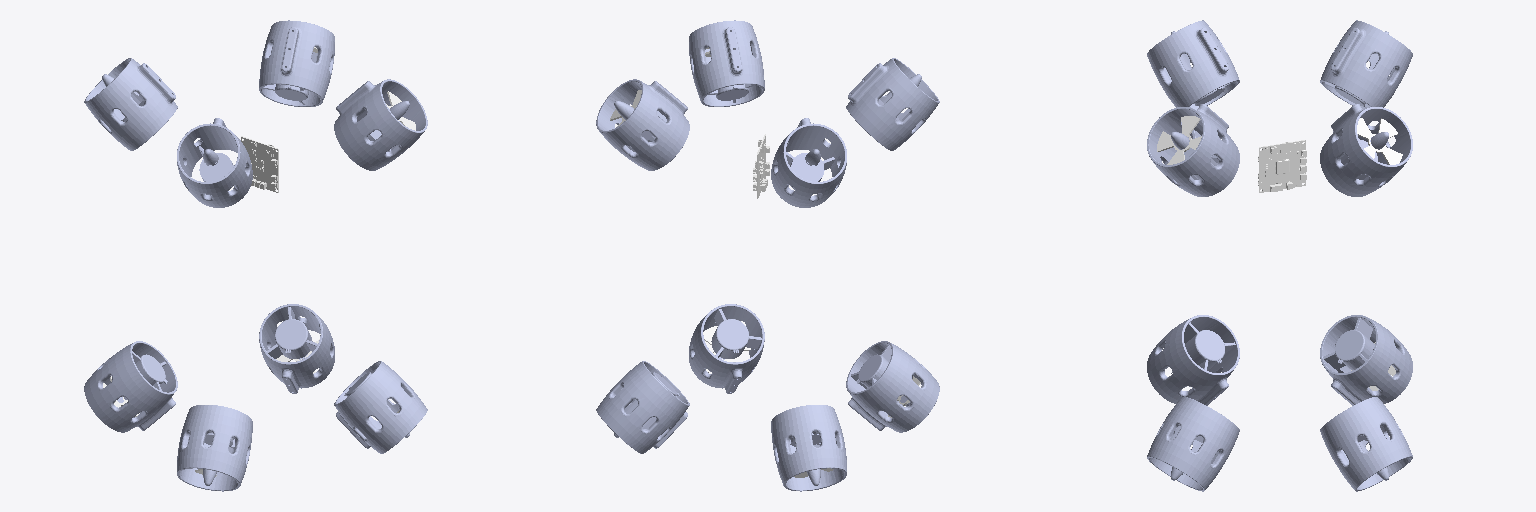
robot.urdf — proto_type_3:
<?xml version='1.0' encoding='UTF-8'?>
<robot name="proto_type_3">
  <link name="base_link">
    <inertial>
      <origin xyz="-4.2558e-06 1.1226e-05 -0.2159" rpy="0.0 -0.0 0.0"/>
      <mass value="1.9086"/>
      <inertia ixx="0.016242" ixy="4.5627e-05" ixz="-4.7038e-11" iyy="0.016844" iyz="-1.7865e-11" izz="0.0050227"/>
    </inertial>
    <visual>
      <geometry>
        <mesh filename="package://proto_type_3/meshes/base_link.dae"/>
      </geometry>
      <material name="__unnamed_material_1"/>
      <origin xyz="0.0 0.0 0.0" rpy="0.0 -0.0 0.0"/>
    </visual>
    <collision>
      <geometry>
        <mesh filename="package://proto_type_3/meshes/base_link.stl"/>
      </geometry>
      <origin xyz="0.0 0.0 0.0" rpy="0.0 -0.0 0.0"/>
    </collision>
  </link>
  <link name="t1">
    <inertial>
      <origin xyz="-0.014292 -0.0143 0.017717" rpy="0.0 -0.0 0.0"/>
      <mass value="0.099392"/>
      <inertia ixx="7.9154e-05" ixy="6.1395e-08" ixz="-3.7817e-06" iyy="7.9136e-05" iyz="-3.804e-06" izz="7.672e-05"/>
    </inertial>
    <visual>
      <geometry>
        <mesh filename="package://proto_type_3/meshes/t1.dae"/>
      </geometry>
      <material name="__unnamed_material_2"/>
      <origin xyz="0.0 0.0 0.0" rpy="0.0 -0.0 0.0"/>
    </visual>
    <collision>
      <geometry>
        <mesh filename="package://proto_type_3/meshes/t1.stl"/>
      </geometry>
      <origin xyz="0.0 0.0 0.0" rpy="0.0 -0.0 0.0"/>
    </collision>
  </link>
  <link name="thrust1">
    <inertial>
      <origin xyz="3.3307e-15 3.525e-15 -0.001" rpy="0.0 -0.0 0.0"/>
      <mass value="0.0028342"/>
      <inertia ixx="6.5251e-07" ixy="-1.0853e-21" ixz="1.8529e-22" iyy="6.5251e-07" iyz="-3.7058e-22" izz="1.3031e-06"/>
    </inertial>
    <visual>
      <geometry>
        <mesh filename="package://proto_type_3/meshes/thrust1.dae"/>
      </geometry>
      <material name="__unnamed_material_3"/>
      <origin xyz="0.0 0.0 0.0" rpy="0.0 -0.0 0.0"/>
    </visual>
    <collision>
      <geometry>
        <mesh filename="package://proto_type_3/meshes/thrust1.stl"/>
      </geometry>
      <origin xyz="0.0 0.0 0.0" rpy="0.0 -0.0 0.0"/>
    </collision>
  </link>
  <link name="t2">
    <inertial>
      <origin xyz="0.0143 -0.014292 0.017717" rpy="0.0 -0.0 0.0"/>
      <mass value="0.099392"/>
      <inertia ixx="7.9136e-05" ixy="-6.1395e-08" ixz="3.804e-06" iyy="7.9154e-05" iyz="-3.7817e-06" izz="7.672e-05"/>
    </inertial>
    <visual>
      <geometry>
        <mesh filename="package://proto_type_3/meshes/t2.dae"/>
      </geometry>
      <material name="__unnamed_material_4"/>
      <origin xyz="0.0 0.0 0.0" rpy="0.0 -0.0 0.0"/>
    </visual>
    <collision>
      <geometry>
        <mesh filename="package://proto_type_3/meshes/t2.stl"/>
      </geometry>
      <origin xyz="0.0 0.0 0.0" rpy="0.0 -0.0 0.0"/>
    </collision>
  </link>
  <link name="thrust2">
    <inertial>
      <origin xyz="2.2204e-16 8.3267e-17 0.001" rpy="0.0 -0.0 0.0"/>
      <mass value="0.0028342"/>
      <inertia ixx="6.5251e-07" ixy="-3.5867e-21" ixz="-2.647e-22" iyy="6.5251e-07" iyz="-1.3235e-22" izz="1.3031e-06"/>
    </inertial>
    <visual>
      <geometry>
        <mesh filename="package://proto_type_3/meshes/thrust2.dae"/>
      </geometry>
      <material name="__unnamed_material_5"/>
      <origin xyz="0.0 0.0 0.0" rpy="0.0 -0.0 0.0"/>
    </visual>
    <collision>
      <geometry>
        <mesh filename="package://proto_type_3/meshes/thrust2.stl"/>
      </geometry>
      <origin xyz="0.0 0.0 0.0" rpy="0.0 -0.0 0.0"/>
    </collision>
  </link>
  <link name="t3">
    <inertial>
      <origin xyz="-0.0143 0.014292 0.017717" rpy="0.0 -0.0 0.0"/>
      <mass value="0.099392"/>
      <inertia ixx="7.9136e-05" ixy="-6.1395e-08" ixz="-3.804e-06" iyy="7.9154e-05" iyz="3.7817e-06" izz="7.672e-05"/>
    </inertial>
    <visual>
      <geometry>
        <mesh filename="package://proto_type_3/meshes/t3.dae"/>
      </geometry>
      <material name="__unnamed_material_6"/>
      <origin xyz="0.0 0.0 0.0" rpy="0.0 -0.0 0.0"/>
    </visual>
    <collision>
      <geometry>
        <mesh filename="package://proto_type_3/meshes/t3.stl"/>
      </geometry>
      <origin xyz="0.0 0.0 0.0" rpy="0.0 -0.0 0.0"/>
    </collision>
  </link>
  <link name="thrust3">
    <inertial>
      <origin xyz="-2.22044604925031e-16 4.9960036108132e-16 0.00100000000000011" rpy="0.0 -0.0 0.0"/>
      <mass value="0.00283424938765202"/>
      <inertia ixx="6.52506444943004e-07" ixy="5.12190235292835e-21" ixz="6.35274710440725e-22" iyy="6.52506444943007e-07" iyz="-2.64697796016969e-23" izz="1.30312339029424e-06"/>
    </inertial>
    <visual>
      <geometry>
        <mesh filename="package://proto_type_3/meshes/thrust3.dae"/>
      </geometry>
      <material name="__unnamed_material_7"/>
      <origin xyz="0.0 0.0 0.0" rpy="0.0 -0.0 0.0"/>
    </visual>
    <collision>
      <geometry>
        <mesh filename="package://proto_type_3/meshes/thrust3.stl"/>
      </geometry>
      <origin xyz="0.0 0.0 0.0" rpy="0.0 -0.0 0.0"/>
    </collision>
  </link>
  <link name="t4">
    <inertial>
      <origin xyz="0.014292 0.0143 0.017717" rpy="0.0 -0.0 0.0"/>
      <mass value="0.099392"/>
      <inertia ixx="7.9154e-05" ixy="6.1395e-08" ixz="3.7817e-06" iyy="7.9136e-05" iyz="3.804e-06" izz="7.672e-05"/>
    </inertial>
    <visual>
      <geometry>
        <mesh filename="package://proto_type_3/meshes/t4.dae"/>
      </geometry>
      <material name="__unnamed_material_8"/>
      <origin xyz="0.0 0.0 0.0" rpy="0.0 -0.0 0.0"/>
    </visual>
    <collision>
      <geometry>
        <mesh filename="package://proto_type_3/meshes/t4.stl"/>
      </geometry>
      <origin xyz="0.0 0.0 0.0" rpy="0.0 -0.0 0.0"/>
    </collision>
  </link>
  <link name="thrust4">
    <inertial>
      <origin xyz="-3.33066907387547e-16 -2.4008572907519e-15 0.000999999999999834" rpy="0.0 -0.0 0.0"/>
      <mass value="0.00283424938765202"/>
      <inertia ixx="6.52506444943007e-07" ixy="1.87935435172048e-21" ixz="-1.19114008207636e-22" iyy="6.52506444943005e-07" iyz="3.97046694025453e-22" izz="1.30312339029424e-06"/>
    </inertial>
    <visual>
      <geometry>
        <mesh filename="package://proto_type_3/meshes/thrust4.dae"/>
      </geometry>
      <material name="__unnamed_material_9"/>
      <origin xyz="0.0 0.0 0.0" rpy="0.0 -0.0 0.0"/>
    </visual>
    <collision>
      <geometry>
        <mesh filename="package://proto_type_3/meshes/thrust4.stl"/>
      </geometry>
      <origin xyz="0.0 0.0 0.0" rpy="0.0 -0.0 0.0"/>
    </collision>
  </link>
  <link name="t5">
    <inertial>
      <origin xyz="0.014292 -0.0143 -0.017717" rpy="0.0 -0.0 0.0"/>
      <mass value="0.099392"/>
      <inertia ixx="7.9154e-05" ixy="-6.1395e-08" ixz="-3.7817e-06" iyy="7.9136e-05" iyz="3.804e-06" izz="7.672e-05"/>
    </inertial>
    <visual>
      <geometry>
        <mesh filename="package://proto_type_3/meshes/t5.dae"/>
      </geometry>
      <material name="__unnamed_material_10"/>
      <origin xyz="0.0 0.0 0.0" rpy="0.0 -0.0 0.0"/>
    </visual>
    <collision>
      <geometry>
        <mesh filename="package://proto_type_3/meshes/t5.stl"/>
      </geometry>
      <origin xyz="0.0 0.0 0.0" rpy="0.0 -0.0 0.0"/>
    </collision>
  </link>
  <link name="thrust5"/>
  <link name="t6">
    <inertial>
      <origin xyz="-0.0143000152087087 -0.0142922441739046 -0.0177167300533436" rpy="0.0 -0.0 0.0"/>
      <mass value="0.0993924873705024"/>
      <inertia ixx="7.91363117744376e-05" ixy="6.13947103617769e-08" ixz="3.80401853538391e-06" iyy="7.91541243411415e-05" iyz="3.78172056208575e-06" izz="7.67197078219357e-05"/>
    </inertial>
    <visual>
      <geometry>
        <mesh filename="package://proto_type_3/meshes/t6.dae"/>
      </geometry>
      <material name="__unnamed_material_11"/>
      <origin xyz="0.0 0.0 0.0" rpy="0.0 -0.0 0.0"/>
    </visual>
    <collision>
      <geometry>
        <mesh filename="package://proto_type_3/meshes/t6.stl"/>
      </geometry>
      <origin xyz="0.0 0.0 0.0" rpy="0.0 -0.0 0.0"/>
    </collision>
  </link>
  <link name="thrust6">
    <inertial>
      <origin xyz="4.05231403988182e-14 2.86715096109447e-14 0.0010000000000413" rpy="0.0 -0.0 0.0"/>
      <mass value="0.00283424938765202"/>
      <inertia ixx="6.52506444942999e-07" ixy="-6.07481441858944e-21" ixz="-1.98523347012727e-22" iyy="6.52506444943014e-07" iyz="-2.38228016415272e-22" izz="1.30312339029425e-06"/>
    </inertial>
    <visual>
      <geometry>
        <mesh filename="package://proto_type_3/meshes/thrust6.dae"/>
      </geometry>
      <material name="__unnamed_material_12"/>
      <origin xyz="0.0 0.0 0.0" rpy="0.0 -0.0 0.0"/>
    </visual>
    <collision>
      <geometry>
        <mesh filename="package://proto_type_3/meshes/thrust6.stl"/>
      </geometry>
      <origin xyz="0.0 0.0 0.0" rpy="0.0 -0.0 0.0"/>
    </collision>
  </link>
  <link name="t7">
    <inertial>
      <origin xyz="0.204997340751786 0.0143000152101347 -0.0177167300564932" rpy="0.0 -0.0 0.0"/>
      <mass value="0.0993924873705016"/>
      <inertia ixx="7.91541243411232e-05" ixy="-6.13947103569633e-08" ixz="3.78172056208173e-06" iyy="7.91363117744202e-05" iyz="-3.80401853537825e-06" izz="7.67197078219122e-05"/>
    </inertial>
    <visual>
      <geometry>
        <mesh filename="package://proto_type_3/meshes/t7.dae"/>
      </geometry>
      <material name="__unnamed_material_13"/>
      <origin xyz="0.0 0.0 0.0" rpy="0.0 -0.0 0.0"/>
    </visual>
    <collision>
      <geometry>
        <mesh filename="package://proto_type_3/meshes/t7.stl"/>
      </geometry>
      <origin xyz="0.0 0.0 0.0" rpy="0.0 -0.0 0.0"/>
    </collision>
  </link>
  <link name="thrust7">
    <inertial>
      <origin xyz="0.189044325927537 -1.16573417585641e-14 0.110144792463057" rpy="0.0 -0.0 0.0"/>
      <mass value="0.00283424938765199"/>
      <inertia ixx="1.14046915395644e-06" ixy="-2.35978085149128e-20" ixz="-2.81725401403391e-07" iyy="6.52506444942998e-07" iyz="5.05572790392411e-21" izz="8.15160681280793e-07"/>
    </inertial>
    <visual>
      <geometry>
        <mesh filename="package://proto_type_3/meshes/thrust7.dae"/>
      </geometry>
      <material name="__unnamed_material_14"/>
      <origin xyz="0.0 0.0 0.0" rpy="0.0 -0.0 0.0"/>
    </visual>
    <collision>
      <geometry>
        <mesh filename="package://proto_type_3/meshes/thrust7.stl"/>
      </geometry>
      <origin xyz="0.0 0.0 0.0" rpy="0.0 -0.0 0.0"/>
    </collision>
  </link>
  <link name="t8">
    <inertial>
      <origin xyz="-0.20498956971677 0.0142922441793721 -0.0177167300578815" rpy="0.0 -0.0 0.0"/>
      <mass value="0.0993924873705009"/>
      <inertia ixx="7.91363117743876e-05" ixy="6.13947103530806e-08" ixz="-3.80401853537279e-06" iyy="7.91541243410908e-05" iyz="-3.78172056207681e-06" izz="7.67197078218827e-05"/>
    </inertial>
    <visual>
      <geometry>
        <mesh filename="package://proto_type_3/meshes/t8.dae"/>
      </geometry>
      <material name="__unnamed_material_15"/>
      <origin xyz="0.0 0.0 0.0" rpy="0.0 -0.0 0.0"/>
    </visual>
    <collision>
      <geometry>
        <mesh filename="package://proto_type_3/meshes/t8.stl"/>
      </geometry>
      <origin xyz="0.0 0.0 0.0" rpy="0.0 -0.0 0.0"/>
    </collision>
  </link>
  <link name="thrust8"/>
  <link name="fc">
    <inertial>
      <origin xyz="0.0 0.0 0.0" rpy="0.0 -0.0 0.0"/>
      <mass value="0.0"/>
      <inertia ixx="0.0" ixy="0.0" ixz="0.0" iyy="0.0" iyz="0.0" izz="0.0"/>
    </inertial>
    <visual>
      <geometry>
        <mesh filename="package://proto_type_3/meshes/fc.dae"/>
      </geometry>
      <material name="__unnamed_material_16"/>
      <origin xyz="0.0 0.0 0.0" rpy="0.0 -0.0 0.0"/>
    </visual>
    <collision>
      <geometry>
        <mesh filename="package://proto_type_3/meshes/fc.stl"/>
      </geometry>
      <origin xyz="0.0 0.0 0.0" rpy="0.0 -0.0 0.0"/>
    </collision>
  </link>
  <joint name="l1" type="fixed">
    <limit effort="0.0" velocity="0.0" lower="-20.0" upper="20.0"/>
    <parent link="base_link"/>
    <child link="t1"/>
    <axis xyz="0. 0. 0."/>
    <origin xyz="0.10964 0.096917 -0.39159" rpy="0.0 -0.0 0.0"/>
  </joint>
  <joint name="rotor1" type="continuous">
    <limit effort="0.0" velocity="0.0"/>
    <parent link="t1"/>
    <child link="thrust1"/>
    <axis xyz=" 0.  0. -1."/>
    <origin xyz="0.0 0.0 0.0" rpy="-2.4569 -0.42052999999999996 -0.32175"/>
  </joint>
  <joint name="l2" type="fixed">
    <limit effort="0.0" velocity="0.0" lower="-20.0" upper="20.0"/>
    <parent link="base_link"/>
    <child link="t2"/>
    <axis xyz="0. 0. 0."/>
    <origin xyz="-0.10964 0.096917 -0.39159" rpy="0.0 -0.0 0.0"/>
  </joint>
  <joint name="rotor2" type="continuous">
    <limit effort="0.0" velocity="0.0"/>
    <parent link="t2"/>
    <child link="thrust2"/>
    <axis xyz="0. 0. 1."/>
    <origin xyz="0.0 0.0 0.0" rpy="0.68472 0.42053 0.3217499999999999"/>
  </joint>
  <joint name="l3" type="fixed">
    <limit effort="0.0" velocity="0.0" lower="-20.0" upper="20.0"/>
    <parent link="base_link"/>
    <child link="t3"/>
    <axis xyz="0. 0. 0."/>
    <origin xyz="0.10964 -0.096917 -0.39159" rpy="0.0 -0.0 0.0"/>
  </joint>
  <joint name="rotor3" type="continuous">
    <limit effort="0.0" velocity="0.0"/>
    <parent link="t3"/>
    <child link="thrust3"/>
    <axis xyz="0. 0. 1."/>
    <origin xyz="0.0 0.0 0.0" rpy="-0.68472 -0.42053 0.3217499999999999"/>
  </joint>
  <joint name="l4" type="fixed">
    <limit effort="0.0" velocity="0.0" lower="-20.0" upper="20.0"/>
    <parent link="base_link"/>
    <child link="t4"/>
    <axis xyz="0. 0. 0."/>
    <origin xyz="-0.10964 -0.096917 -0.39159" rpy="0.0 -0.0 0.0"/>
  </joint>
  <joint name="rotor4" type="continuous">
    <limit effort="0.0" velocity="0.0"/>
    <parent link="t4"/>
    <child link="thrust4"/>
    <axis xyz=" 0.  0. -1."/>
    <origin xyz="0.0 0.0 0.0" rpy="-0.68472 0.42053 -0.3217499999999999"/>
  </joint>
  <joint name="l5" type="fixed">
    <limit effort="0.0" velocity="0.0" lower="-20.0" upper="20.0"/>
    <parent link="base_link"/>
    <child link="t5"/>
    <axis xyz=" 0.49999886 -0.49999886 -0.70710839"/>
    <origin xyz="-0.109644792462478 0.0969168703997903 -0.0402142442010311" rpy="0.0 -0.0 0.0"/>
  </joint>
  <joint name="rotor5" type="continuous">
    <limit effort="0.0" velocity="0.0"/>
    <parent link="t5"/>
    <child link="thrust5"/>
    <axis xyz=" 0.  0. -1."/>
    <origin xyz="0.0 0.0 0.0" rpy="2.4569 -0.42052999999999996 0.32175"/>
  </joint>
  <joint name="l6" type="fixed">
    <limit effort="0.0" velocity="0.0" lower="-20.0" upper="20.0"/>
    <parent link="base_link"/>
    <child link="t6"/>
    <axis xyz="0. 0. 0."/>
    <origin xyz="0.10964 0.096917 -0.040214" rpy="0.0 -0.0 0.0"/>
  </joint>
  <joint name="rotor6" type="continuous">
    <limit effort="0.0" velocity="0.0"/>
    <parent link="t6"/>
    <child link="thrust6"/>
    <axis xyz="0. 0. 1."/>
    <origin xyz="0.0 0.0 0.0" rpy="2.4569 0.42052999999999996 -0.32175"/>
  </joint>
  <joint name="l7" type="fixed">
    <limit effort="0.0" velocity="0.0" lower="-20.0" upper="20.0"/>
    <parent link="base_link"/>
    <child link="t7"/>
    <axis xyz="0. 0. 0."/>
    <origin xyz="-0.10964 -0.096917 -0.040214" rpy="0.0 -0.0 0.0"/>
  </joint>
  <joint name="rotor7" type="continuous">
    <limit effort="0.0" velocity="0.0"/>
    <parent link="t7"/>
    <child link="thrust7"/>
    <axis xyz=" 0.  0. -1."/>
    <origin xyz="0.0 0.0 0.0" rpy="-2.4569 -0.42052999999999996 -0.32175"/>
  </joint>
  <joint name="l8" type="fixed">
    <limit effort="0.0" velocity="0.0" lower="-20.0" upper="20.0"/>
    <parent link="base_link"/>
    <child link="t8"/>
    <axis xyz="0. 0. 0."/>
    <origin xyz="0.10964 -0.096917 -0.040214" rpy="0.0 -0.0 0.0"/>
  </joint>
  <joint name="rotor8" type="continuous">
    <limit effort="0.0" velocity="0.0"/>
    <parent link="t8"/>
    <child link="thrust8"/>
    <axis xyz="0. 0. 1."/>
    <origin xyz="0.0 0.0 0.0" rpy="-2.4569 0.42052999999999996 0.32175"/>
  </joint>
  <joint name="fc" type="fixed">
    <limit effort="0.0" velocity="0.0"/>
    <parent link="base_link"/>
    <child link="fc"/>
    <axis xyz="0. 0. 0."/>
    <origin xyz="0.0070466 0.0026714 -0.1145" rpy="-0.36239265358979345 1.5707926535897934 3.141592653589793"/>
  </joint>
  <material name="__unnamed_material_1">
    <color rgba="0.75294 0.75294 0.75294 1.     "/>
  </material>
  <material name="__unnamed_material_2">
    <color rgba="0.79216 0.81961 0.93333 1.     "/>
  </material>
  <material name="__unnamed_material_3">
    <color rgba="1. 1. 1. 1."/>
  </material>
  <material name="__unnamed_material_4">
    <color rgba="0.79216 0.81961 0.93333 1.     "/>
  </material>
  <material name="__unnamed_material_5">
    <color rgba="1. 1. 1. 1."/>
  </material>
  <material name="__unnamed_material_6">
    <color rgba="0.79216 0.81961 0.93333 1.     "/>
  </material>
  <material name="__unnamed_material_7">
    <color rgba="1. 1. 1. 1."/>
  </material>
  <material name="__unnamed_material_8">
    <color rgba="0.79216 0.81961 0.93333 1.     "/>
  </material>
  <material name="__unnamed_material_9">
    <color rgba="1. 1. 1. 1."/>
  </material>
  <material name="__unnamed_material_10">
    <color rgba="0.79216 0.81961 0.93333 1.     "/>
  </material>
  <material name="__unnamed_material_11">
    <color rgba="0.79215686 0.81960784 0.93333333 1.        "/>
  </material>
  <material name="__unnamed_material_12">
    <color rgba="1. 1. 1. 1."/>
  </material>
  <material name="__unnamed_material_13">
    <color rgba="0.79215686 0.81960784 0.93333333 1.        "/>
  </material>
  <material name="__unnamed_material_14">
    <color rgba="1. 1. 1. 1."/>
  </material>
  <material name="__unnamed_material_15">
    <color rgba="0.79215686 0.81960784 0.93333333 1.        "/>
  </material>
  <material name="__unnamed_material_16">
    <color rgba="1. 1. 1. 1."/>
  </material>
</robot>

--- Render facts (derived) ---
3 views of the same robot in one strip: view 1: azimuth 30°, elevation 25°; view 2: azimuth 150°, elevation 25°; view 3: azimuth 270°, elevation 25° (orthographic).
Robot: proto_type_3 — 18 links, 17 joints (8 continuous, 9 fixed); root link base_link; default pose: all joints at 0.
Visible links, largest first — view 1: t2, t7, t6, t4, t5, t3, t1, t8, fc; view 2: t4, t6, t7, t2, t1, t8, t5, t3, fc; view 3: t4, t2, t3, t1, t7, t8, t6, t5, fc, thrust7, thrust6.
Boxes of the visible links, x1,y1,x2,y2 form: t2: (84, 341, 177, 432); t7: (334, 79, 427, 170); t6: (259, 20, 334, 106); t4: (177, 405, 252, 491); t5: (84, 58, 177, 150); t3: (334, 361, 427, 453); t1: (259, 304, 334, 393); t8: (177, 118, 252, 207); fc: (241, 136, 278, 192); t4: (846, 341, 939, 432); t6: (596, 79, 689, 170); t7: (689, 20, 764, 106); t2: (771, 405, 846, 491); t1: (596, 361, 689, 453); t8: (846, 58, 939, 150); t5: (771, 118, 846, 207); t3: (689, 304, 764, 393); fc: (753, 134, 769, 198); t4: (1147, 315, 1239, 405); t2: (1320, 315, 1412, 405); t3: (1147, 397, 1239, 491); t1: (1320, 397, 1412, 491); t7: (1147, 104, 1239, 196); t8: (1147, 20, 1239, 109); t6: (1320, 104, 1412, 196); t5: (1320, 20, 1412, 109); fc: (1258, 140, 1306, 192); thrust7: (1157, 116, 1201, 164); thrust6: (1357, 118, 1402, 164).
Size in the robot's own frame: 0.291 by 0.2656 by 0.4183 metres.
15 mesh visuals loaded from 16 distinct referenced files (15 Collada DAE); not drawn: 1 (reference not matched to a file when rendering).
